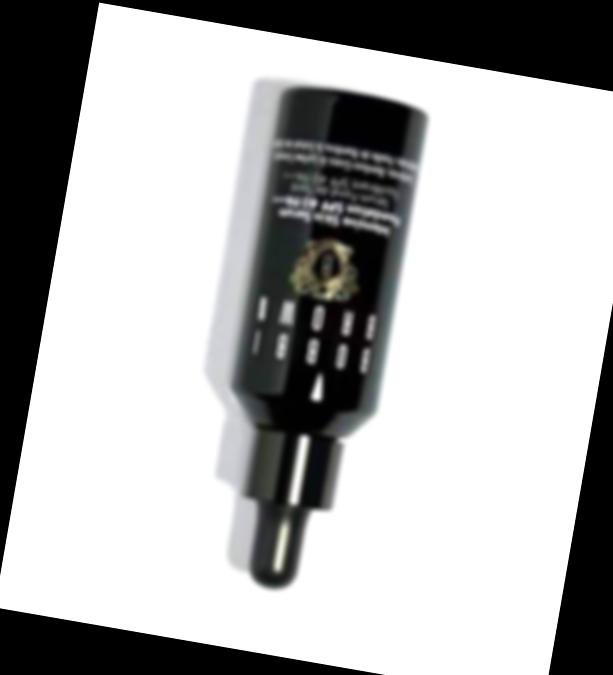cosmetic: (198, 90, 433, 603)
